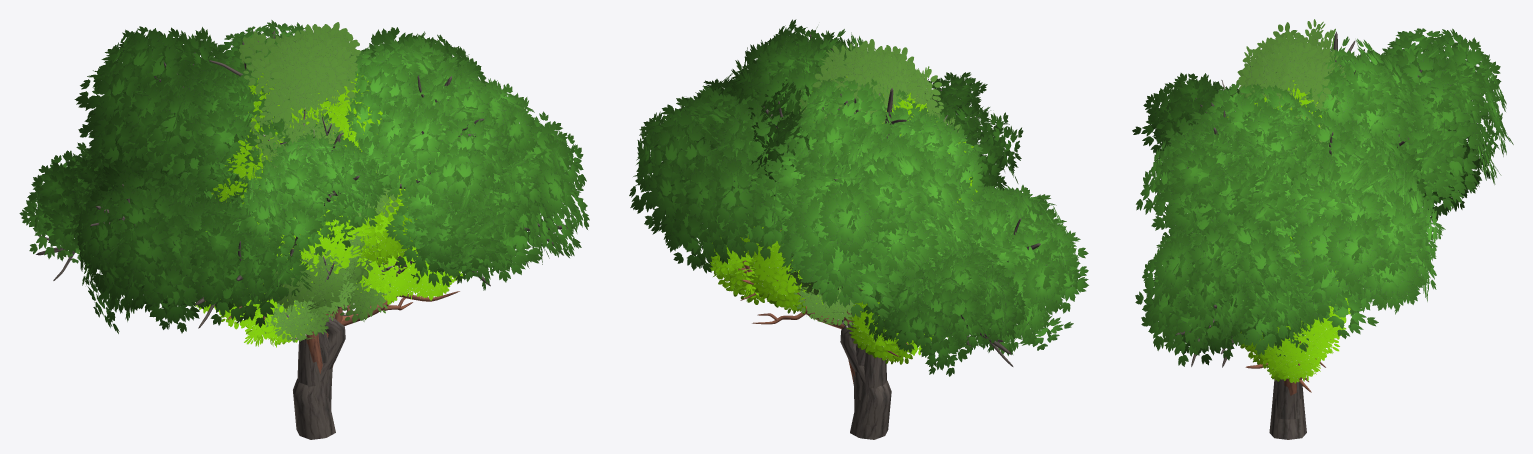
File: trees.glb
3 views of the same model, side by side, from view 1: azimuth 30°, elevation 25°; view 2: azimuth 150°, elevation 25°; view 3: azimuth 270°, elevation 25° (orthographic). The views are drawn at different scales.
Visible parts, largest first — view 1: MapleTree_3.MapleTree_3, MapleTree_5.MapleTree_5, MapleTree_2.MapleTree_2, BirchTree_2.BirchTree_2, MapleTree_1.MapleTree_1, NormalTree_3.NormalTree_3, NormalTree_1.NormalTree_1, BirchTree_4.BirchTree_4, NormalTree_4.NormalTree_4, NormalTree_2.NormalTree_2, BirchTree_3.BirchTree_3; view 2: MapleTree_3.MapleTree_3, MapleTree_2.MapleTree_2, MapleTree_5.MapleTree_5, BirchTree_2.BirchTree_2, NormalTree_3.NormalTree_3, MapleTree_1.MapleTree_1, NormalTree_2.NormalTree_2, BirchTree_4.BirchTree_4; view 3: MapleTree_3.MapleTree_3, MapleTree_5.MapleTree_5, MapleTree_2.MapleTree_2, BirchTree_2.BirchTree_2, MapleTree_1.MapleTree_1, NormalTree_3.NormalTree_3.
Boxes of the visible parts, x1,y1,x2,y2 form: MapleTree_3.MapleTree_3: [74, 26, 589, 437]; MapleTree_5.MapleTree_5: [141, 20, 536, 409]; MapleTree_2.MapleTree_2: [19, 51, 409, 439]; BirchTree_2.BirchTree_2: [238, 22, 400, 311]; MapleTree_1.MapleTree_1: [195, 98, 562, 437]; NormalTree_3.NormalTree_3: [220, 208, 462, 367]; NormalTree_1.NormalTree_1: [211, 73, 416, 265]; BirchTree_4.BirchTree_4: [261, 269, 390, 342]; NormalTree_4.NormalTree_4: [195, 197, 423, 373]; NormalTree_2.NormalTree_2: [236, 90, 423, 337]; BirchTree_3.BirchTree_3: [302, 170, 393, 320]; MapleTree_3.MapleTree_3: [629, 69, 1088, 437]; MapleTree_2.MapleTree_2: [748, 72, 1025, 439]; MapleTree_5.MapleTree_5: [723, 19, 1062, 410]; BirchTree_2.BirchTree_2: [782, 39, 964, 295]; NormalTree_3.NormalTree_3: [709, 227, 948, 383]; MapleTree_1.MapleTree_1: [696, 110, 962, 374]; NormalTree_2.NormalTree_2: [747, 241, 924, 334]; BirchTree_4.BirchTree_4: [794, 286, 866, 327]; MapleTree_3.MapleTree_3: [1135, 28, 1513, 439]; MapleTree_5.MapleTree_5: [1136, 31, 1424, 418]; MapleTree_2.MapleTree_2: [1132, 73, 1490, 431]; BirchTree_2.BirchTree_2: [1218, 19, 1349, 308]; MapleTree_1.MapleTree_1: [1152, 90, 1426, 439]; NormalTree_3.NormalTree_3: [1240, 242, 1340, 395].
Size of the model in its own units: 8.98 by 7.57 by 6.68.
24 materials, 24 textured.
